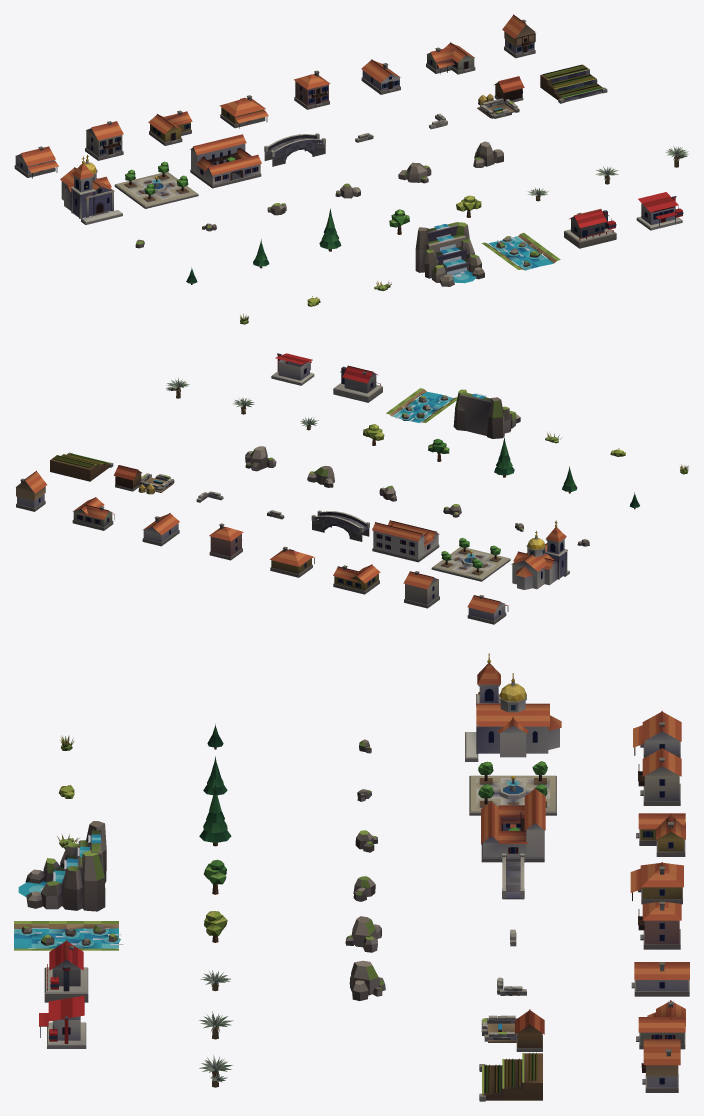
The model's file is andes_kit.glb.
3 views of the same model, one above another, from view 1: azimuth 30°, elevation 25°; view 2: azimuth 150°, elevation 25°; view 3: azimuth 270°, elevation 25° (orthographic). The views are drawn at different scales.
Parts seen in each view (by area): view 1: cascada_pieza, posada, iglesia_and, plaza_and, terraza_cultivo, rapidos_pieza, estacion_cima, finca, estacion_valle, casa_and_02, puente_piedra, casa_and_07 (+8 smaller); view 2: iglesia_and, cascada_pieza, posada, plaza_and, rapidos_pieza, estacion_cima, terraza_cultivo, finca, puente_piedra, casa_and_02, casa_and_03, estacion_valle (+8 smaller); view 3: iglesia_and, cascada_pieza, posada, plaza_and, rapidos_pieza, terraza_cultivo, estacion_cima, casa_and_02, estacion_valle, casa_and_08, casa_and_06, finca (+9 smaller).
Boxes of the visible parts, x1=… form: cascada_pieza: x1=415, y1=222, x2=484, y2=286; posada: x1=190, y1=134, x2=261, y2=188; iglesia_and: x1=60, y1=154, x2=122, y2=224; plaza_and: x1=114, y1=161, x2=198, y2=208; terraza_cultivo: x1=540, y1=64, x2=607, y2=103; rapidos_pieza: x1=481, y1=233, x2=560, y2=270; estacion_cima: x1=564, y1=209, x2=616, y2=248; finca: x1=477, y1=76, x2=524, y2=118; estacion_valle: x1=636, y1=192, x2=683, y2=230; casa_and_02: x1=85, y1=121, x2=123, y2=160; puente_piedra: x1=264, y1=133, x2=325, y2=166; casa_and_07: x1=426, y1=42, x2=475, y2=74; iglesia_and: x1=511, y1=520, x2=569, y2=589; cascada_pieza: x1=453, y1=389, x2=520, y2=438; posada: x1=372, y1=520, x2=439, y2=562; plaza_and: x1=431, y1=537, x2=510, y2=581; rapidos_pieza: x1=386, y1=388, x2=457, y2=422; estacion_cima: x1=333, y1=365, x2=382, y2=402; terraza_cultivo: x1=50, y1=452, x2=113, y2=481; finca: x1=113, y1=465, x2=174, y2=494; puente_piedra: x1=311, y1=510, x2=369, y2=541; casa_and_02: x1=403, y1=571, x2=439, y2=608; casa_and_03: x1=333, y1=564, x2=380, y2=594; estacion_valle: x1=271, y1=353, x2=314, y2=385; iglesia_and: x1=465, y1=653, x2=561, y2=761; cascada_pieza: x1=18, y1=821, x2=106, y2=911; posada: x1=481, y1=787, x2=545, y2=862; plaza_and: x1=469, y1=761, x2=556, y2=815; rapidos_pieza: x1=14, y1=921, x2=123, y2=950; terraza_cultivo: x1=479, y1=1052, x2=542, y2=1101; estacion_cima: x1=44, y1=940, x2=88, y2=1002; casa_and_02: x1=638, y1=747, x2=681, y2=805; estacion_valle: x1=39, y1=995, x2=86, y2=1048; casa_and_08: x1=641, y1=1039, x2=680, y2=1092; casa_and_06: x1=631, y1=962, x2=689, y2=996; finca: x1=481, y1=1009, x2=544, y2=1051.
Size of the model in its own units: 199 by 21.9 by 154.
